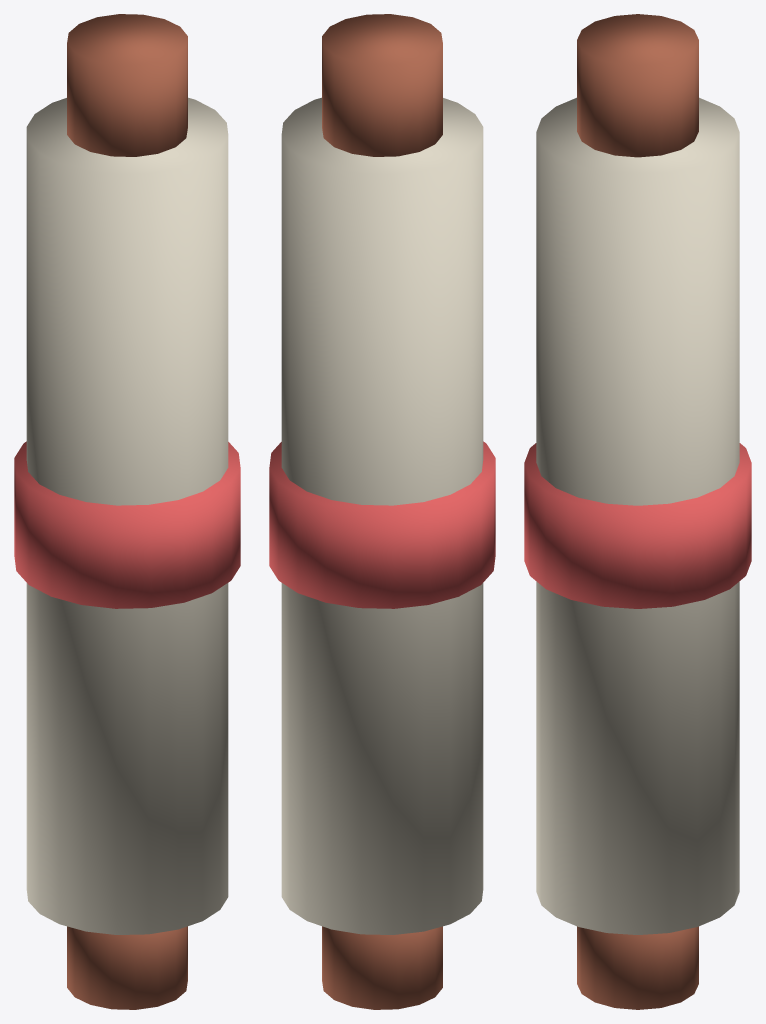
File: sen-scroll.glb
The picture shows the model from 3 angles, left to right: view 1: azimuth 30°, elevation 25°; view 2: azimuth 150°, elevation 25°; view 3: azimuth 270°, elevation 25°; orthographic projection.
Visible parts, largest first — view 1: scroll_paper, scroll_rollers, scroll_tie; view 2: scroll_paper, scroll_rollers, scroll_tie; view 3: scroll_paper, scroll_rollers, scroll_tie.
Boxes of the visible parts, x1=… form: scroll_paper: x1=26, y1=97, x2=228, y2=934; scroll_rollers: x1=67, y1=14, x2=187, y2=1009; scroll_tie: x1=14, y1=441, x2=240, y2=608; scroll_paper: x1=281, y1=97, x2=483, y2=934; scroll_rollers: x1=322, y1=14, x2=442, y2=1009; scroll_tie: x1=269, y1=441, x2=495, y2=608; scroll_paper: x1=536, y1=97, x2=739, y2=934; scroll_rollers: x1=577, y1=14, x2=698, y2=1009; scroll_tie: x1=524, y1=443, x2=751, y2=608.
Size of the model in its own units: 0.168 by 0.77 by 0.168.
